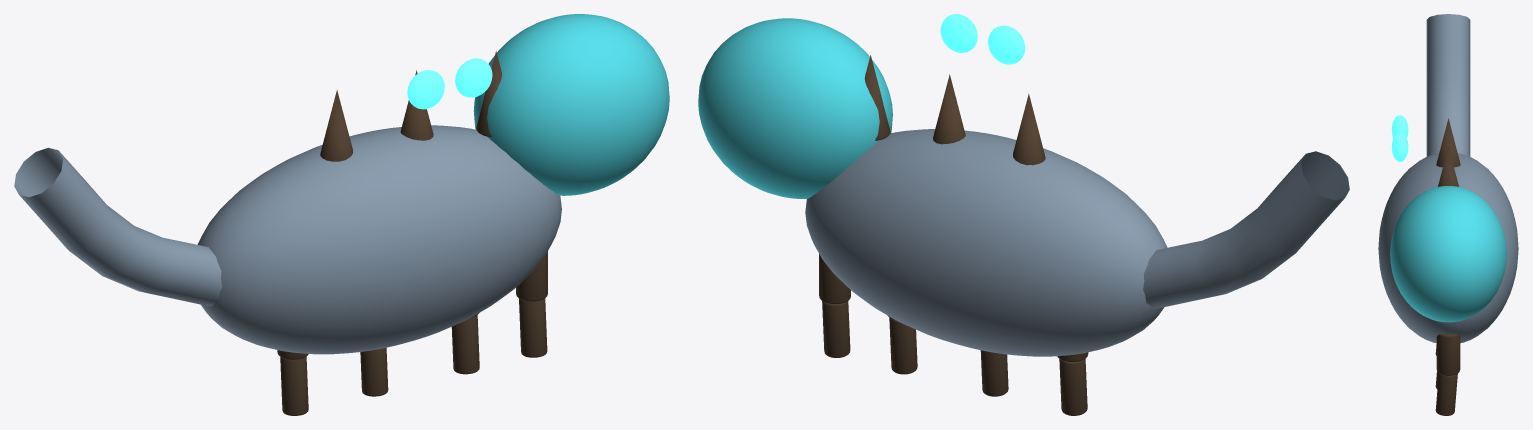
Rendered from serpent_v6.glb.
The picture shows the model from 3 angles, left to right: view 1: azimuth 30°, elevation 25°; view 2: azimuth 150°, elevation 25°; view 3: azimuth 270°, elevation 25°; orthographic projection. The views are drawn at different scales.
Parts seen in each view (by area): view 1: BASILISK_BODY_PRIMARY, BASILISK_HEAD_ACCENT, BASILISK_TAIL_PRIMARY, BASILISK_LOWER_LEG_SECONDARY.003, BASILISK_LOWER_LEG_SECONDARY, BASILISK_LOWER_LEG_SECONDARY.002, BASILISK_CREST_SECONDARY, BASILISK_LOWER_LEG_SECONDARY.001, EYE_EMISSIVE, EYE_EMISSIVE.001, BASILISK_UPPER_LEG_SECONDARY.003, BASILISK_CREST_SECONDARY.001 (+1 smaller); view 2: BASILISK_BODY_PRIMARY, BASILISK_HEAD_ACCENT, BASILISK_TAIL_PRIMARY, BASILISK_LOWER_LEG_SECONDARY.003, BASILISK_LOWER_LEG_SECONDARY, BASILISK_LOWER_LEG_SECONDARY.002, BASILISK_CREST_SECONDARY, BASILISK_CREST_SECONDARY.001, BASILISK_LOWER_LEG_SECONDARY.001, EYE_EMISSIVE, EYE_EMISSIVE.001, BASILISK_UPPER_LEG_SECONDARY.003 (+1 smaller); view 3: BASILISK_HEAD_ACCENT, BASILISK_BODY_PRIMARY, BASILISK_TAIL_PRIMARY, BASILISK_UPPER_LEG_SECONDARY.003, BASILISK_LOWER_LEG_SECONDARY.003, BASILISK_CREST_SECONDARY, BASILISK_CREST_SECONDARY.001, EYE_EMISSIVE.001, EYE_EMISSIVE.
Part boxes in pixels (x1,y1,x2,y2): BASILISK_BODY_PRIMARY: (197,125,561,354); BASILISK_HEAD_ACCENT: (473,14,669,195); BASILISK_TAIL_PRIMARY: (14,147,221,306); BASILISK_LOWER_LEG_SECONDARY.003: (519,298,547,357); BASILISK_LOWER_LEG_SECONDARY: (280,356,308,415); BASILISK_LOWER_LEG_SECONDARY.002: (451,315,479,374); BASILISK_CREST_SECONDARY: (320,90,352,161); BASILISK_LOWER_LEG_SECONDARY.001: (360,347,388,396); EYE_EMISSIVE: (407,70,444,109); EYE_EMISSIVE.001: (455,58,492,97); BASILISK_UPPER_LEG_SECONDARY.003: (516,251,547,301); BASILISK_CREST_SECONDARY.001: (400,70,433,140); BASILISK_BODY_PRIMARY: (805,129,1167,356); BASILISK_HEAD_ACCENT: (698,18,892,198); BASILISK_TAIL_PRIMARY: (1143,151,1349,309); BASILISK_LOWER_LEG_SECONDARY.003: (822,301,850,357); BASILISK_LOWER_LEG_SECONDARY: (1059,359,1087,415); BASILISK_LOWER_LEG_SECONDARY.002: (889,317,917,374); BASILISK_CREST_SECONDARY: (1013,93,1045,165); BASILISK_CREST_SECONDARY.001: (933,74,965,144); BASILISK_LOWER_LEG_SECONDARY.001: (980,350,1008,396); EYE_EMISSIVE: (988,25,1025,64); EYE_EMISSIVE.001: (940,14,977,52); BASILISK_UPPER_LEG_SECONDARY.003: (819,254,850,304); BASILISK_HEAD_ACCENT: (1390,186,1506,322); BASILISK_BODY_PRIMARY: (1378,153,1518,343); BASILISK_TAIL_PRIMARY: (1426,14,1470,156); BASILISK_UPPER_LEG_SECONDARY.003: (1436,334,1460,375); BASILISK_LOWER_LEG_SECONDARY.003: (1435,373,1457,415); BASILISK_CREST_SECONDARY: (1436,118,1460,167); BASILISK_CREST_SECONDARY.001: (1438,146,1458,186); EYE_EMISSIVE.001: (1391,132,1408,161); EYE_EMISSIVE: (1391,115,1408,137).
Bounding box in the file's own units: 3.23 × 1.63 × 0.84.
